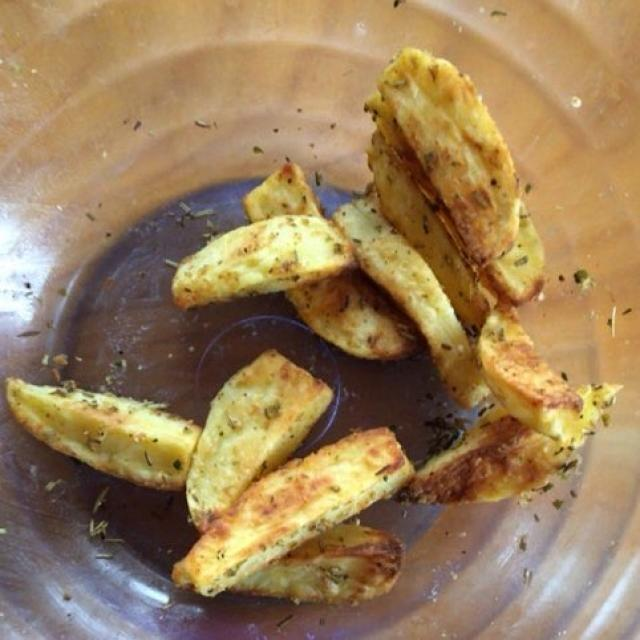chips-french-fries: (17, 71, 632, 599)
